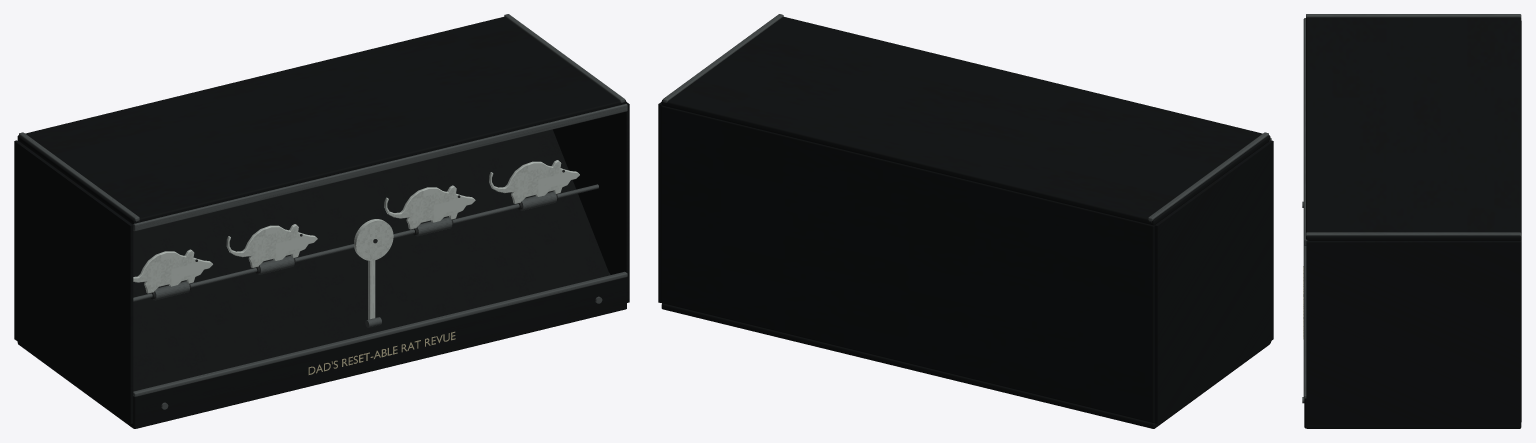
The model's file is rail_rider_rat_gallery.glb.
The picture shows the model from 3 angles, left to right: view 1: azimuth 30°, elevation 25°; view 2: azimuth 150°, elevation 25°; view 3: azimuth 270°, elevation 25°; orthographic projection. The views are drawn at different scales.
Parts seen in each view (by area): view 1: 45 degree rear backstop, Overhanging shroud roof, Fitted solid end caps, Front folded lip, Roof front folded edge, Front upper rolled edge, Rat_02_Silver, Rat_03_Silver, Rat_04_Silver, Rat_01_Silver, Common rat support axle, Reset_Circle (+3 smaller); view 2: Enclosed rear casing, Overhanging shroud roof, Fitted solid end caps, Tray bottom, Side folded roof seam, Side folded roof seam.001; view 3: Overhanging shroud roof, Fitted solid end caps, Side folded roof seam.001, Side folded roof seam, Tray bottom, Roof front folded edge, Front upper rolled edge, Enclosed rear casing.
Boxes of the visible parts, x1,y1,x2,y2 form: 45 degree rear backstop: (133,129,609,391); Overhanging shroud roof: (17,16,626,224); Fitted solid end caps: (14,102,629,423); Front folded lip: (133,277,626,428); Roof front folded edge: (133,104,627,231); Front upper rolled edge: (133,271,627,396); Rat_02_Silver: (226,224,317,267); Rat_03_Silver: (384,185,475,229); Rat_04_Silver: (489,160,579,203); Rat_01_Silver: (133,249,212,293); Common rat support axle: (133,184,598,301); Reset_Circle: (354,219,393,260); Enclosed rear casing: (661,105,1154,422); Overhanging shroud roof: (661,16,1270,225); Fitted solid end caps: (658,102,1273,424); Tray bottom: (661,303,1270,428); Side folded roof seam: (1148,132,1268,222); Side folded roof seam.001: (663,14,783,102); Overhanging shroud roof: (1306,17,1521,240); Fitted solid end caps: (1306,241,1520,425); Side folded roof seam.001: (1306,232,1521,236); Side folded roof seam: (1306,14,1521,17); Tray bottom: (1307,423,1521,428); Roof front folded edge: (1303,18,1307,245); Front upper rolled edge: (1303,245,1306,398); Enclosed rear casing: (1520,21,1521,422).
Bounding box in the file's own units: 0.506 × 0.2045 × 0.209.
Materials: 5 (5 with a texture image).
